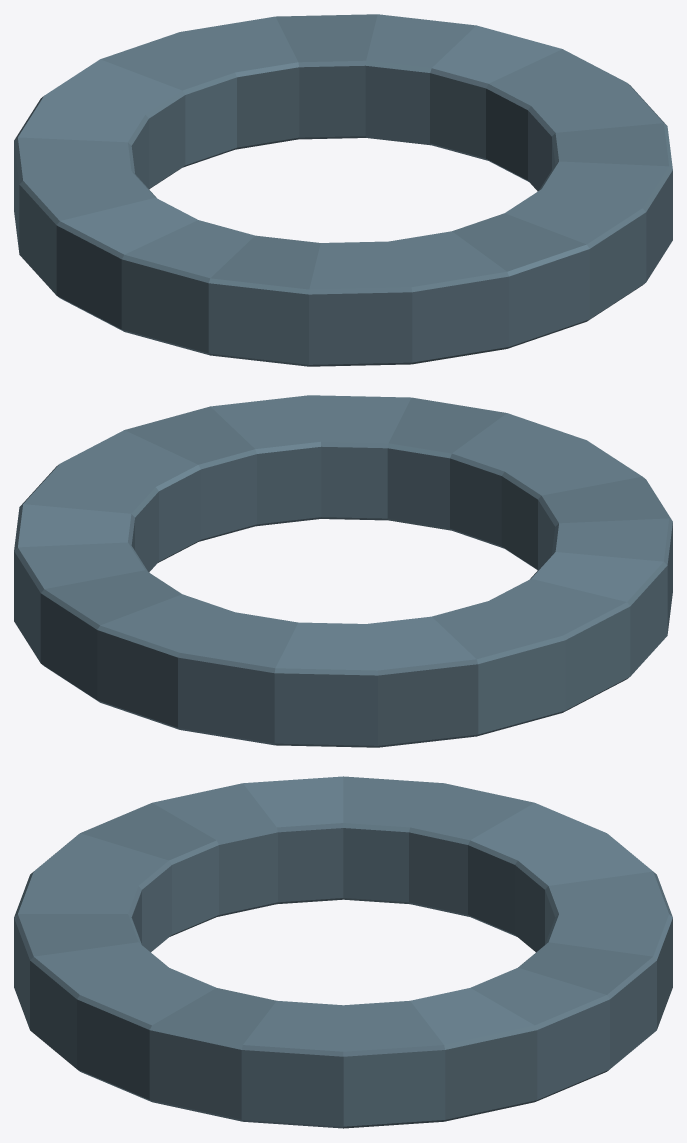
The model's file is P14_Ring.fbx.
3 views of the same model, one above another, from view 1: azimuth 30°, elevation 25°; view 2: azimuth 150°, elevation 25°; view 3: azimuth 270°, elevation 25° (orthographic).
Parts seen in each view (by area): view 1: P14_Ring; view 2: P14_Ring; view 3: P14_Ring.
Boxes of the visible parts, x1,y1,x2,y2 form: P14_Ring: [14, 14, 672, 366]; P14_Ring: [14, 395, 672, 747]; P14_Ring: [14, 776, 672, 1128].
Size of the model in its own units: 1.4 by 0.18 by 1.4.
1 material, 1 textured.
